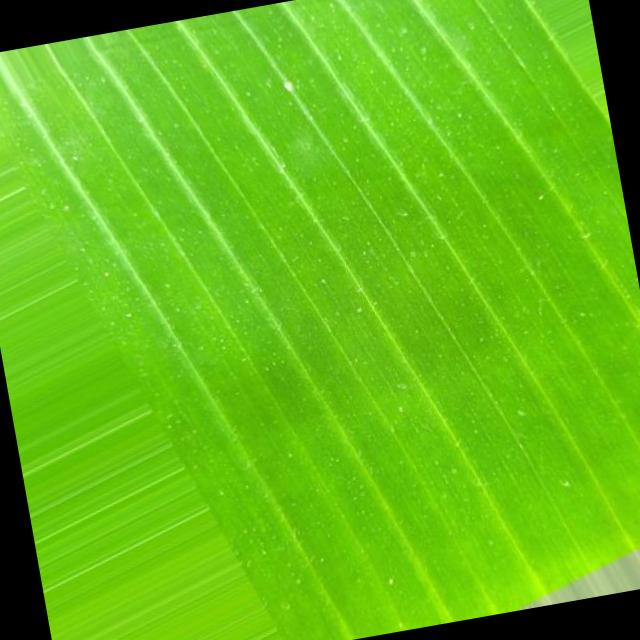Banana_Healthy: (154, 24, 572, 453)
